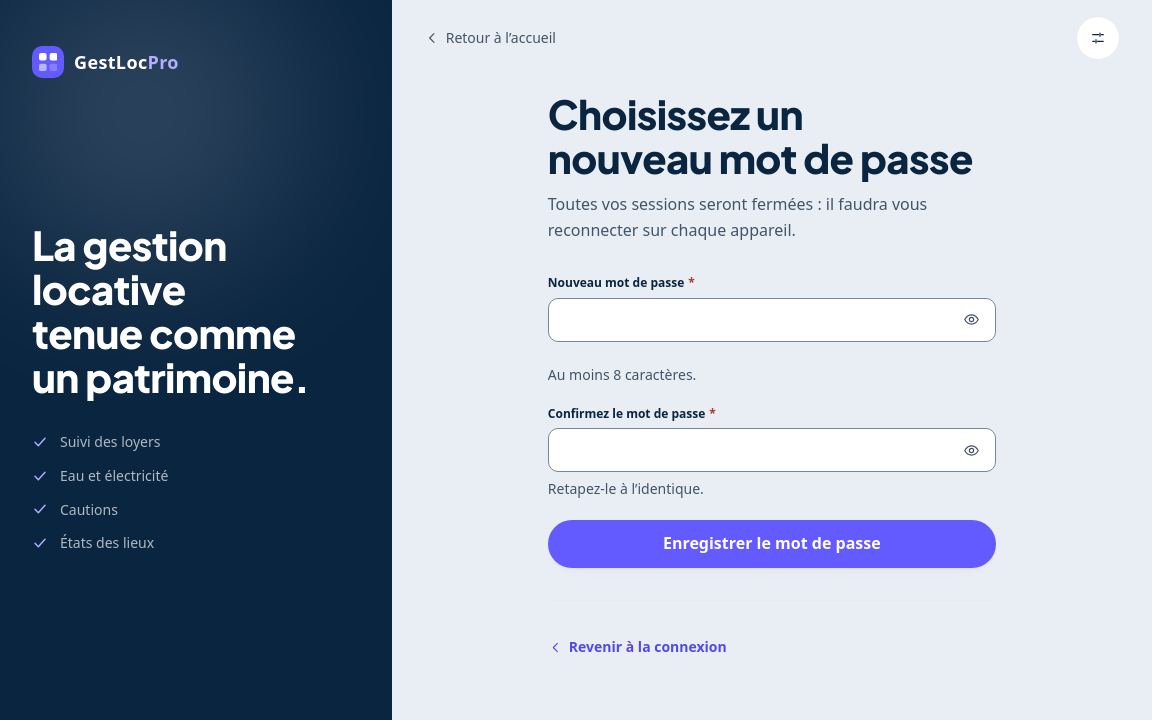
Scenario: l’aide ne remplace pas le refus › les deux se lisent ensemble, l’aide d’abord
Expected: the heading "Choisissez un nouveau mot de passe" is shown, [548, 92, 996, 180]
Type "aaaaaaa" into the password field labelled "Nouveau mot de passe*" at (772,320), box [548, 298, 996, 342]
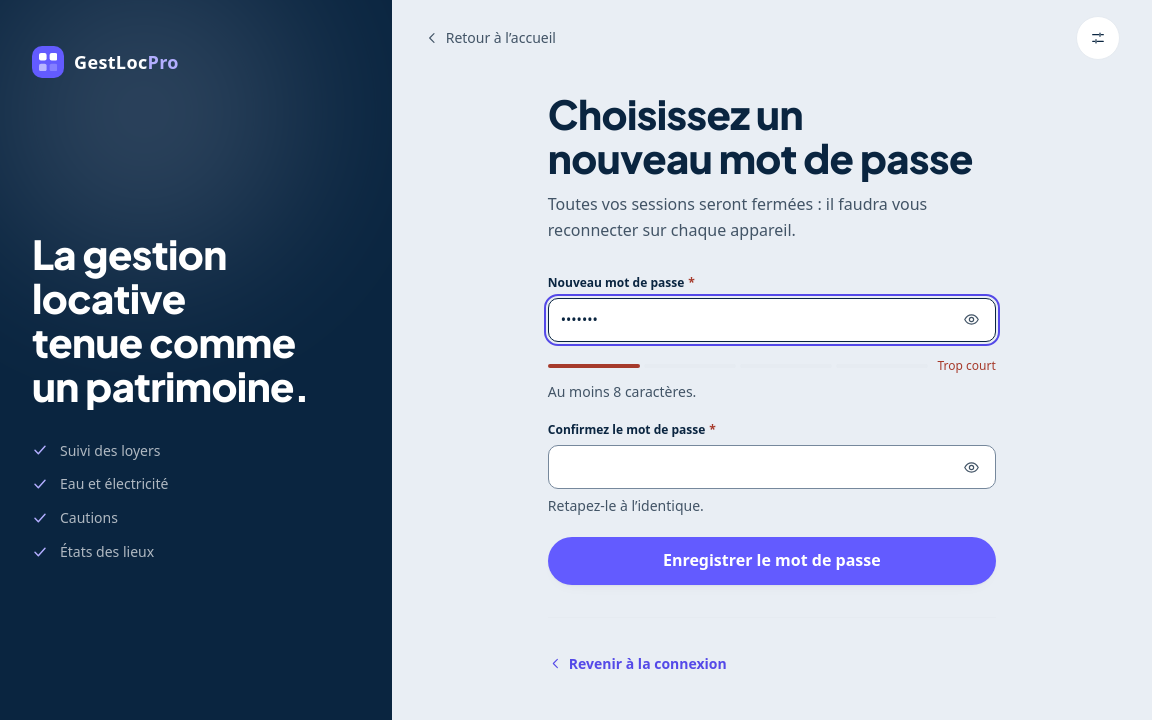
Press Tab
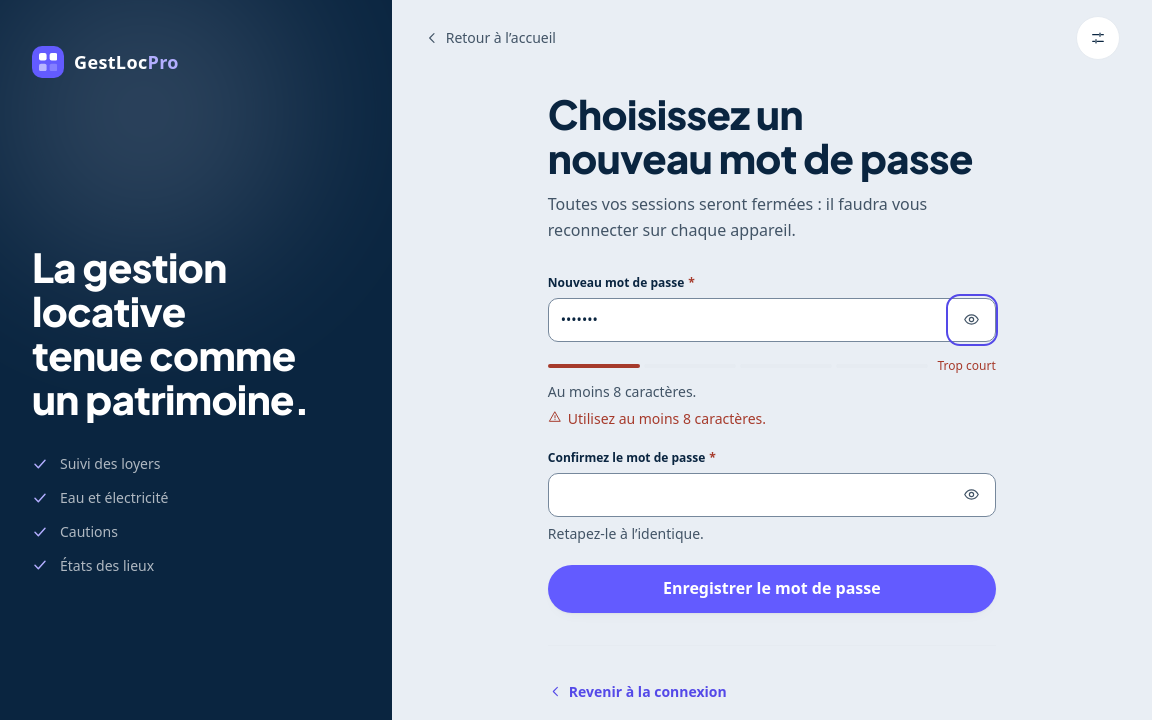
Result: the message "Utilisez au moins 8 caractères." is shown at [548, 410, 766, 428]
